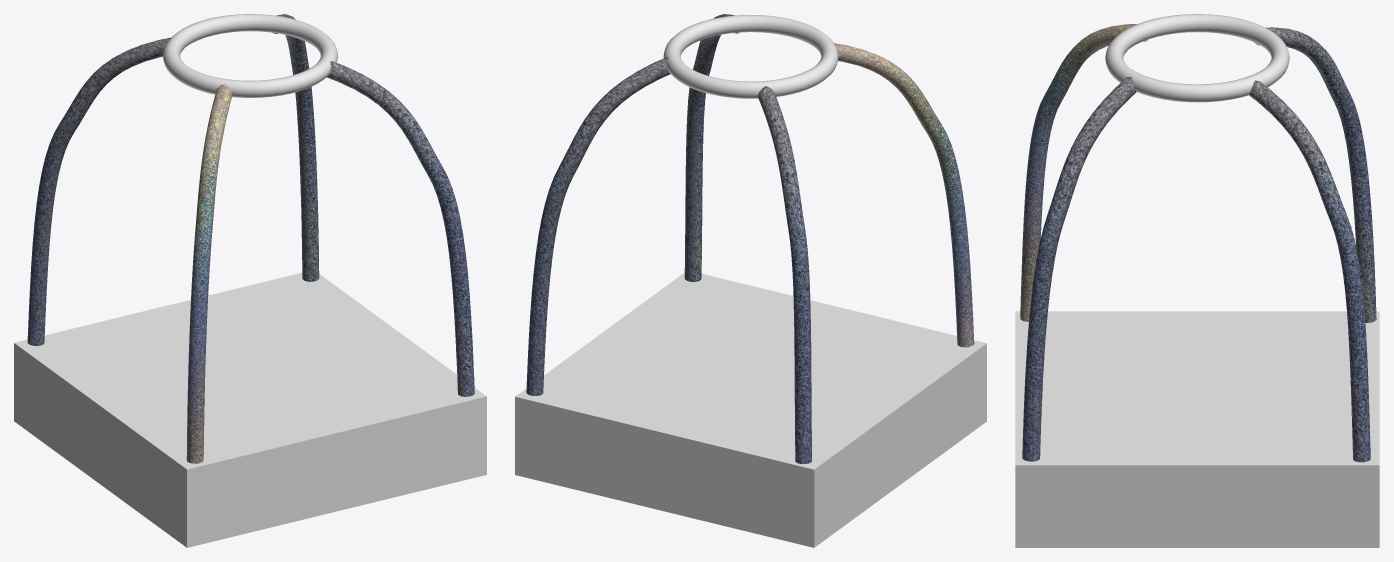
Rendered from GemTower.gltf.
3 views of the same model, side by side, from view 1: azimuth 30°, elevation 25°; view 2: azimuth 150°, elevation 25°; view 3: azimuth 270°, elevation 25° (orthographic). The views are drawn at different scales.
Parts seen in each view (by area): view 1: TowerBase, TowerSide, TowerTop; view 2: TowerBase, TowerSide, TowerTop; view 3: TowerBase, TowerSide, TowerTop.
Boxes of the visible parts, x1,y1,x2,y2 form: TowerBase: (14, 272, 486, 547); TowerSide: (27, 14, 474, 463); TowerTop: (163, 14, 337, 97); TowerBase: (515, 273, 986, 547); TowerSide: (526, 14, 974, 464); TowerTop: (663, 15, 838, 98); TowerBase: (1015, 311, 1379, 547); TowerSide: (1020, 24, 1376, 462); TowerTop: (1105, 14, 1289, 102).
Size of the model in its own units: 2 by 2.55 by 2.
Materials: 3 (1 with a texture image).
